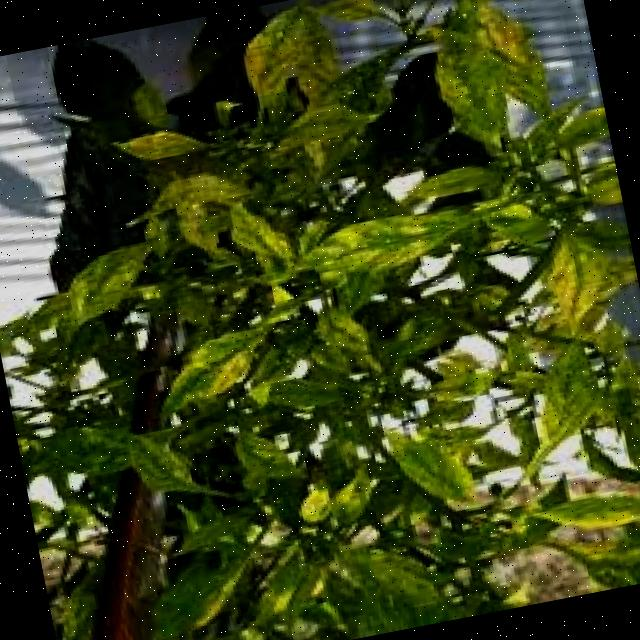yellow: (259, 0, 640, 634)
